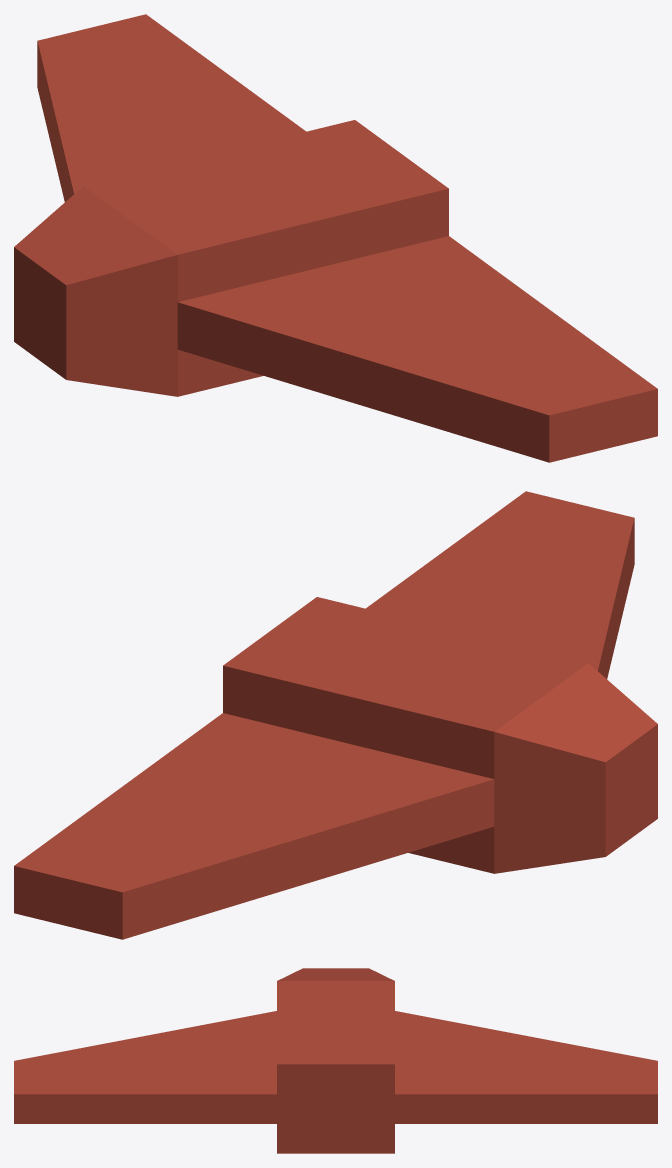
Rendered from robot.gltf.
3 renders of one model, top to bottom at view 1: azimuth 30°, elevation 25°; view 2: azimuth 150°, elevation 25°; view 3: azimuth 270°, elevation 25°, orthographic. The views are drawn at different scales.
Parts seen in each view (by area): view 1: Plane; view 2: Plane; view 3: Plane.
Part boxes in pixels (x1,y1,x2,y2): Plane: [14, 14, 657, 462]; Plane: [14, 491, 657, 939]; Plane: [14, 968, 657, 1153].
Bounding box in the file's own units: 4 × 1.5 × 9.8.
